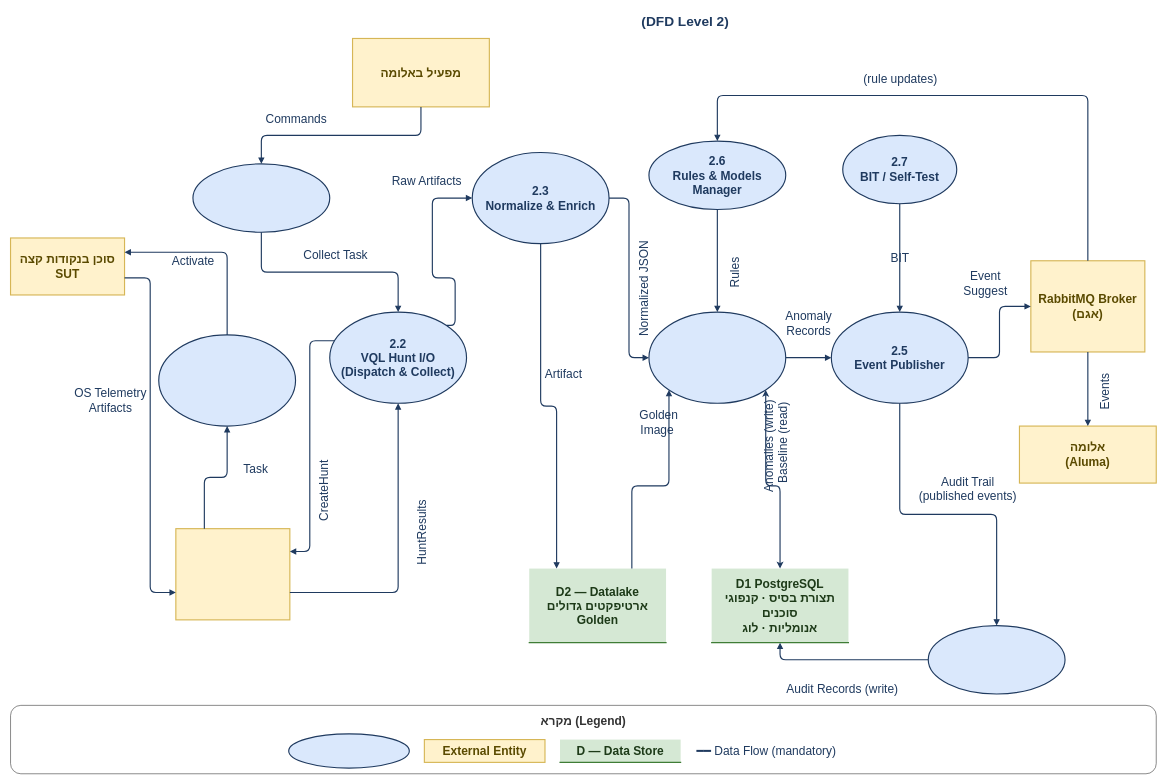
Some shapes in this 1166 by 784 pixel diagram are drawn without their labels. Each missing label, with the centre of its shape:
"2.1 Command & Schedule Handler" goes at point (261, 198).
"2.2.1 Deploy/Activate Agent (SSH)" goes at point (227, 380).
"2.4 Baseline Comparison" goes at point (717, 357).
"2.8 Audit Logger" goes at point (996, 659).
"2.x Process (Nadan)" goes at point (349, 750).
"שרת ניהול סוכנים" goes at point (232, 574).
